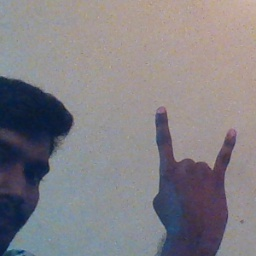V: (146, 101, 243, 243)
